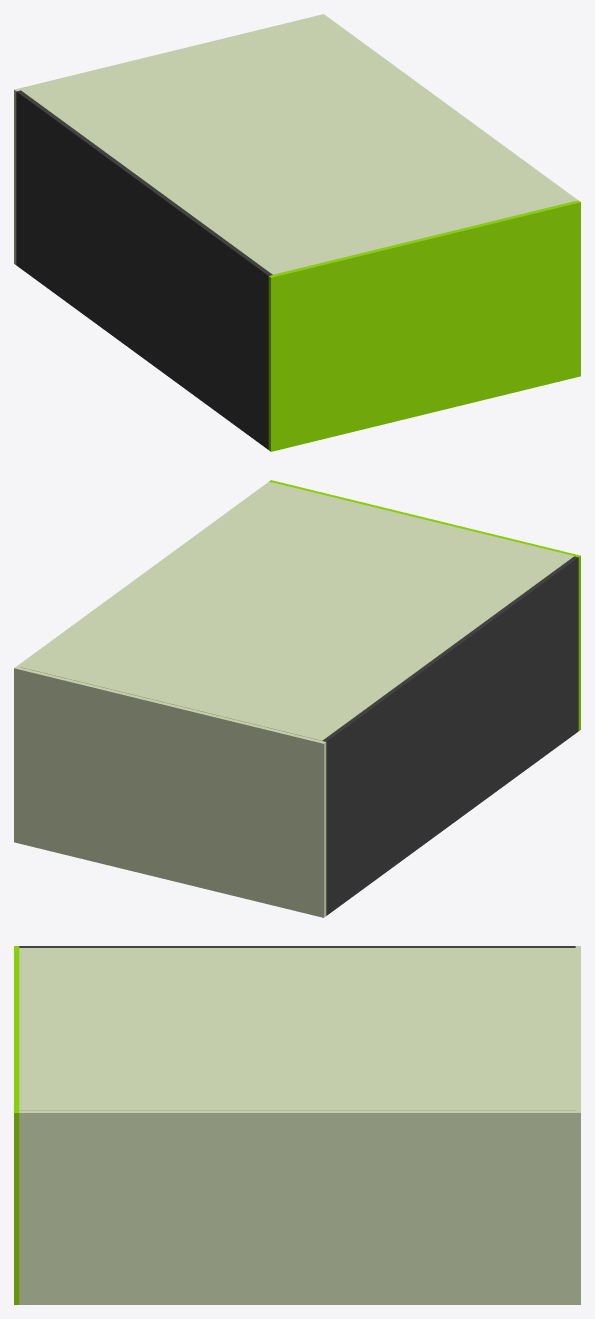
Rendered from Cyber Room.fbx.
3 renders of one model, top to bottom at view 1: azimuth 30°, elevation 25°; view 2: azimuth 150°, elevation 25°; view 3: azimuth 270°, elevation 25°, orthographic. The views are drawn at different scales.
Parts seen in each view (by area): view 1: Ceiling, Back Wall, Right Wall, Front Wall, Left Wall; view 2: Ceiling, Front Wall, Right Wall, Back Wall, Left Wall; view 3: Left Wall, Ceiling, Back Wall, Front Wall, Right Wall.
Part boxes in pixels (x1,y1,x2,y2): Ceiling: (21, 16, 574, 274); Back Wall: (268, 200, 580, 451); Right Wall: (16, 90, 272, 449); Front Wall: (14, 14, 325, 264); Left Wall: (322, 16, 577, 201); Ceiling: (20, 482, 573, 740); Front Wall: (14, 666, 326, 917); Right Wall: (322, 556, 578, 915); Back Wall: (269, 480, 580, 730); Left Wall: (17, 482, 272, 667); Left Wall: (19, 1110, 575, 1304); Ceiling: (19, 948, 575, 1110); Back Wall: (14, 946, 19, 1304); Front Wall: (575, 946, 580, 1304); Right Wall: (19, 946, 575, 947).
Size of the model in its own units: 580 by 312 by 833.
